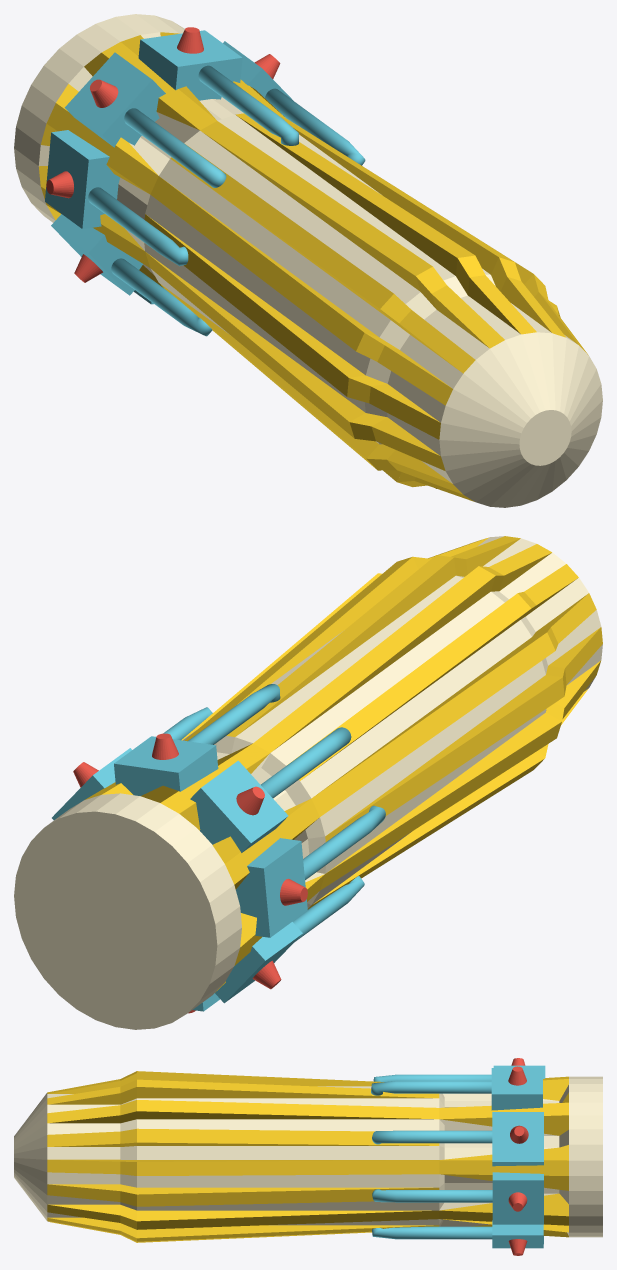
The model's file is nozzle3.fbx.
3 views of the same model, one above another, from view 1: azimuth 30°, elevation 25°; view 2: azimuth 150°, elevation 25°; view 3: azimuth 270°, elevation 25° (orthographic). The views are drawn at different scales.
Visible parts, largest first — view 1: Cylinder, Cube.007, Cube.006, Cube, Cube.005, Cube.001; view 2: Cylinder, Cube.007, Cube.006, Cube, Cube.005, Cube.001; view 3: Cylinder, Cube.001, Cube.002, Cube, Cube.003, Cube.007, Cylinder.003, Cylinder.002, Cylinder.001.
Part boxes in pixels (x1=…): Cylinder: x1=14, y1=14, x2=602, y2=507; Cube.007: x1=64, y1=52, x2=226, y2=187; Cube.006: x1=45, y1=130, x2=188, y2=266; Cube: x1=138, y1=30, x2=298, y2=145; Cube.005: x1=51, y1=214, x2=212, y2=336; Cube.001: x1=223, y1=41, x2=365, y2=165; Cylinder: x1=14, y1=536, x2=602, y2=1029; Cube.007: x1=190, y1=727, x2=351, y2=852; Cube.006: x1=236, y1=805, x2=385, y2=937; Cube: x1=114, y1=684, x2=280, y2=795; Cube.005: x1=215, y1=876, x2=364, y2=1003; Cube.001: x1=52, y1=707, x2=212, y2=820; Cylinder: x1=14, y1=1071, x2=602, y2=1242; Cube.001: x1=372, y1=1112, x2=543, y2=1166; Cube.002: x1=372, y1=1172, x2=543, y2=1224; Cube: x1=371, y1=1068, x2=542, y2=1110; Cube.003: x1=372, y1=1220, x2=543, y2=1248; Cube.007: x1=373, y1=1065, x2=545, y2=1081; Cylinder.003: x1=508, y1=1192, x2=527, y2=1211; Cylinder.002: x1=510, y1=1125, x2=528, y2=1143; Cylinder.001: x1=508, y1=1066, x2=526, y2=1085.
Bounding box in the file's own units: 150 × 152 × 438.
